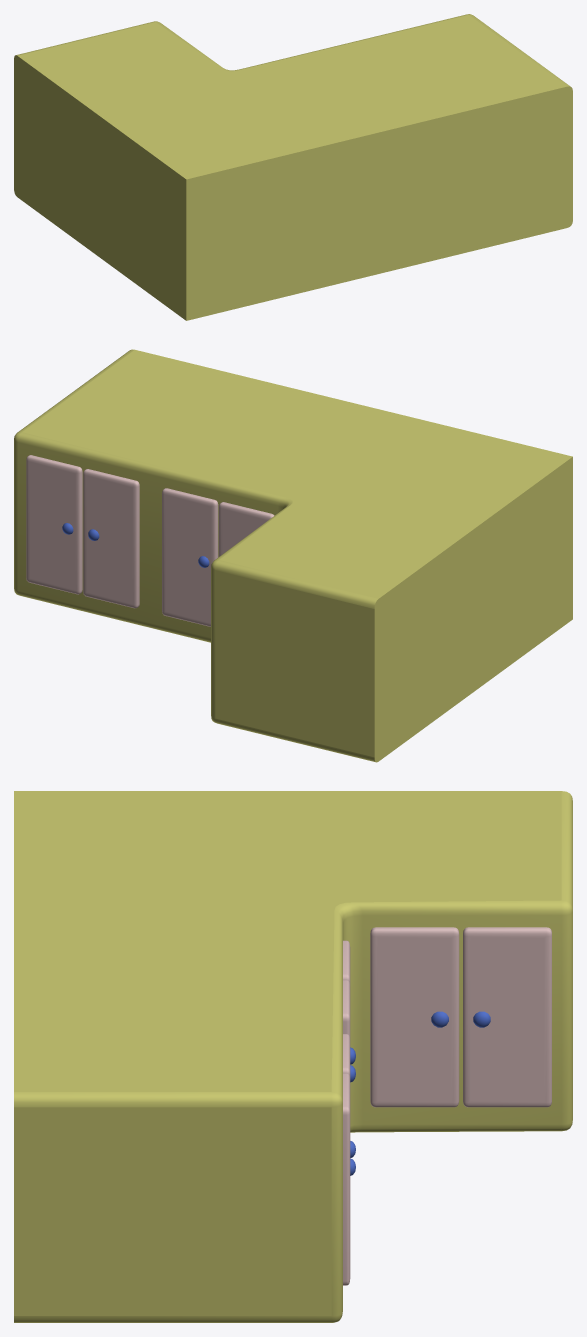
Rendered from LockersUp.FBX.
3 views of the same model, one above another, from view 1: azimuth 30°, elevation 25°; view 2: azimuth 150°, elevation 25°; view 3: azimuth 270°, elevation 25° (orthographic). The views are drawn at different scales.
Parts seen in each view (by area): view 1: LockersUp; view 2: LockersUp; view 3: LockersUp.
Boxes of the visible parts, <box> form: LockersUp: <box>14,14,572,320</box>; LockersUp: <box>14,349,572,762</box>; LockersUp: <box>14,791,572,1322</box>.
Bounding box in the file's own units: 38.82 × 13.57 × 29.98.
